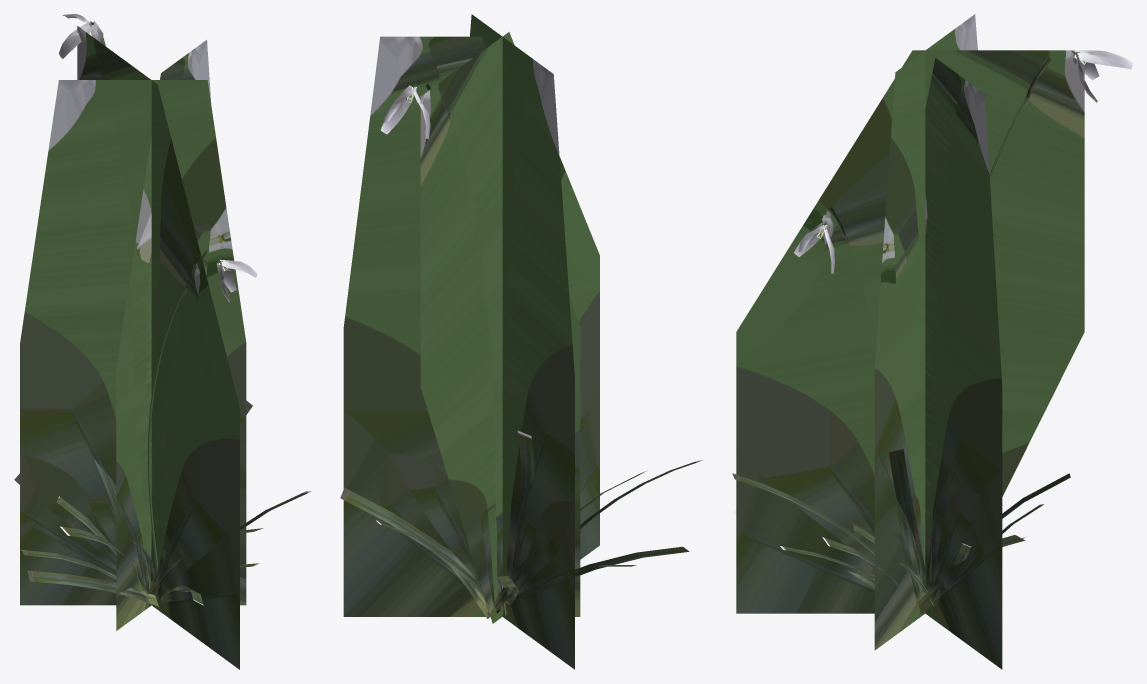
The model's file is PW_Snowdrop_2.fbx.
The picture shows the model from 3 angles, left to right: view 1: azimuth 30°, elevation 25°; view 2: azimuth 150°, elevation 25°; view 3: azimuth 270°, elevation 25°; orthographic projection. The views are drawn at different scales.
Visible parts, largest first — view 1: Billboard, LOD0; view 2: Billboard, LOD0; view 3: Billboard, LOD0.
Part boxes in pixels (x1,y1,x2,y2): Billboard: (20,26,246,669); LOD0: (14,14,311,606); Billboard: (343,14,599,669); LOD0: (340,83,702,618); Billboard: (736,14,1084,669); LOD0: (732,50,1132,615).
Size of what is drawn, in the model's own units: 16.15 by 31.45 by 20.06.
